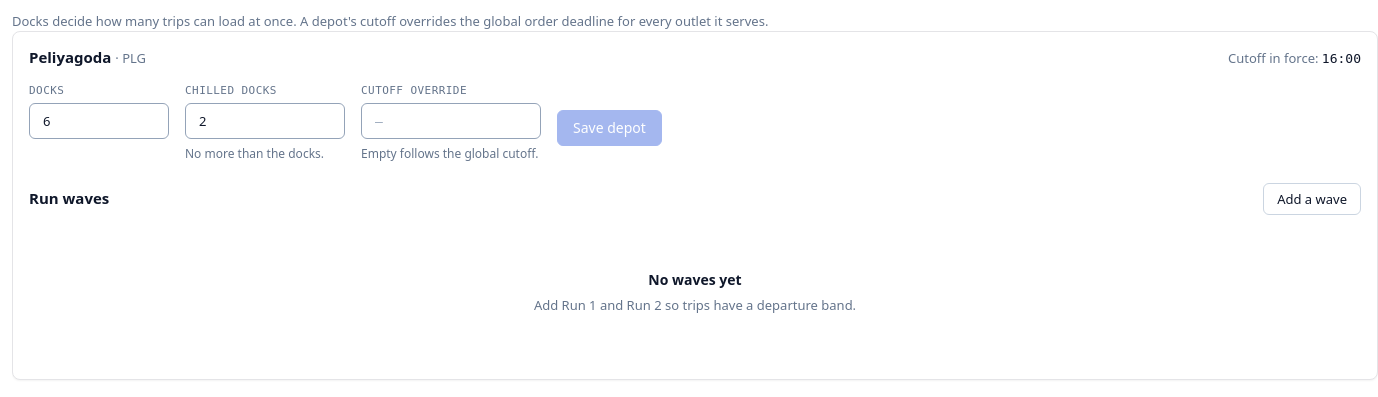
Test case: A4 Depots › keeps a bad cutoff on its own field and sends nothing
This screenshot has width=1378, height=397.
In the field labelled "Cutoff override": (451, 121) [361,103,541,139], type "half four"
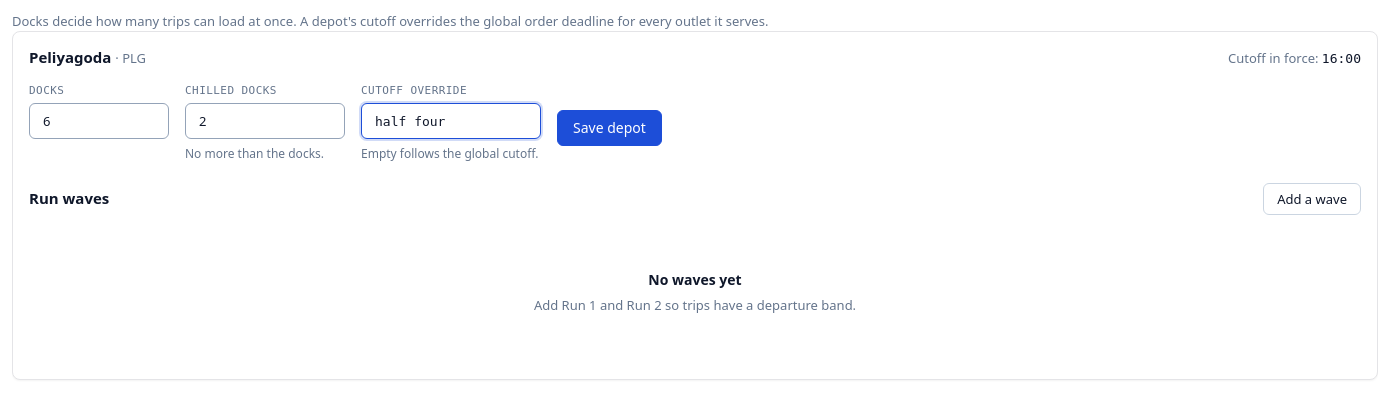
Click the button "Save depot": (609, 128) [557,110,662,146]
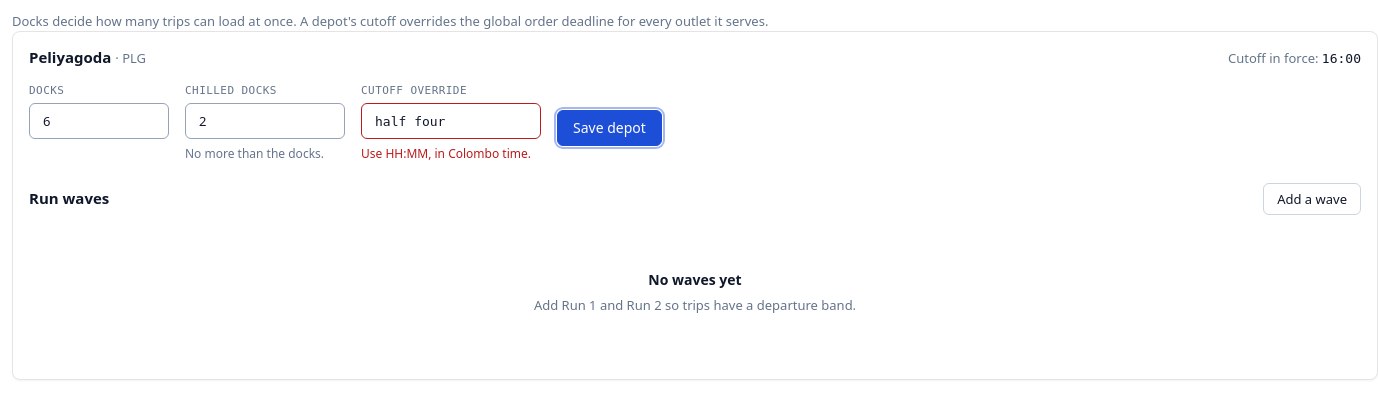
expect the text "Use HH:MM, in Colombo time." is shown: met, box [361,145,541,163]
